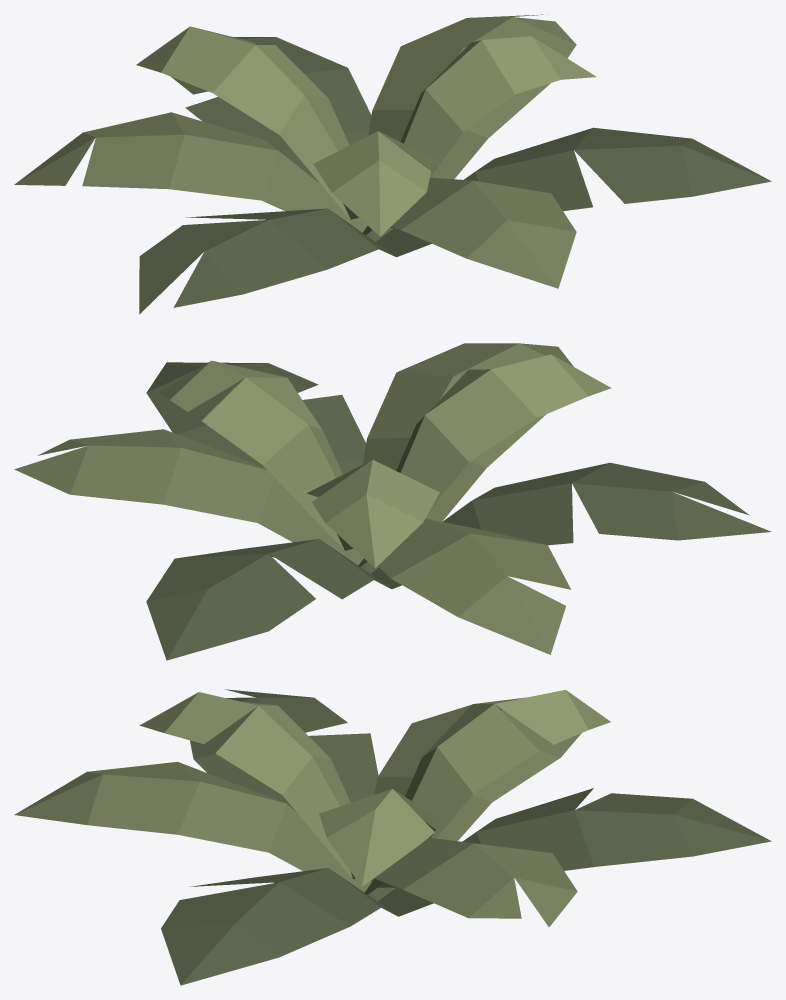
Rendered from fern-1.glb.
The picture shows the model from 3 angles, top to bottom: view 1: azimuth 30°, elevation 25°; view 2: azimuth 150°, elevation 25°; view 3: azimuth 270°, elevation 25°; orthographic projection. The views are drawn at different scales.
Visible parts, largest first — view 1: SM_Plant_Fern_01; view 2: SM_Plant_Fern_01; view 3: SM_Plant_Fern_01.
Part boxes in pixels (x1=…): SM_Plant_Fern_01: x1=14, y1=14, x2=771, y2=314; SM_Plant_Fern_01: x1=14, y1=343, x2=771, y2=660; SM_Plant_Fern_01: x1=14, y1=689, x2=771, y2=985.
Bounding box in the file's own units: 1.29 × 0.3419 × 1.4.
Materials: 1 (1 with a texture image).
